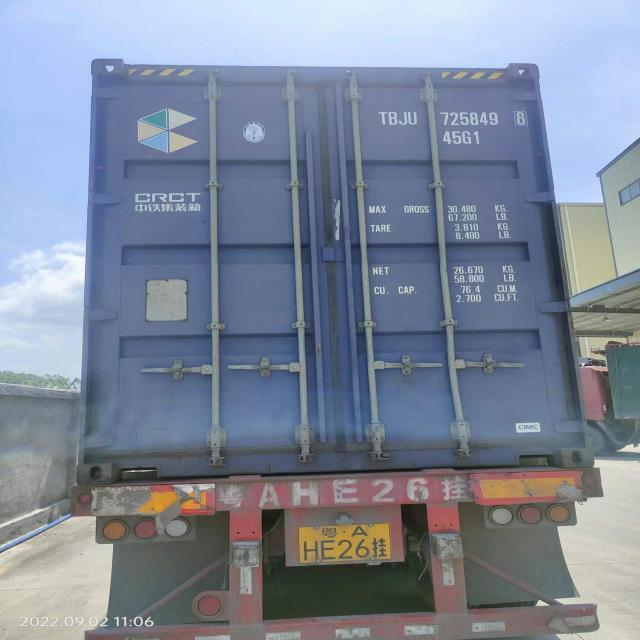ISO: (444, 130, 482, 148)
container_number: (381, 108, 530, 128)
